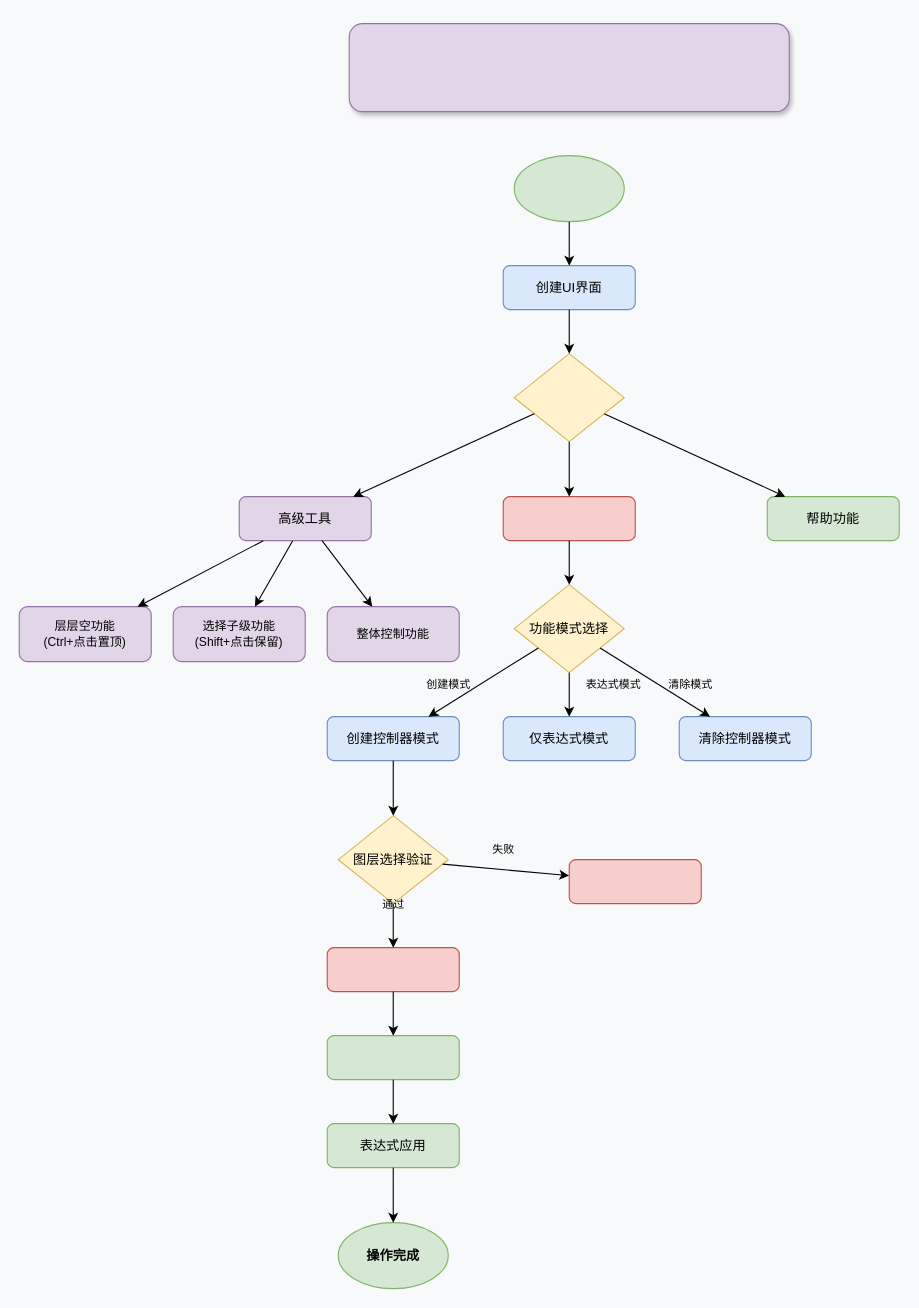
The diagram is 919 pixels wide and 1308 high, and some of its shapes have lost their labels. The shapes that lost their labels are listed below. From the top down, each one's centre as x and y in pixels, then its label:
At pixel 570 68: "Advanced Null Controller v2.1 高级空对象控制器工作流程 作者：烟囱 | 版本：2024.03.27".
At pixel 568 188: "启动脚本".
At pixel 568 397: "用户交互".
At pixel 568 518: "主功能按钮".
At pixel 634 881: "错误提示".
At pixel 392 969: "锁定图层处理".
At pixel 392 1057: "控制器创建流程".
